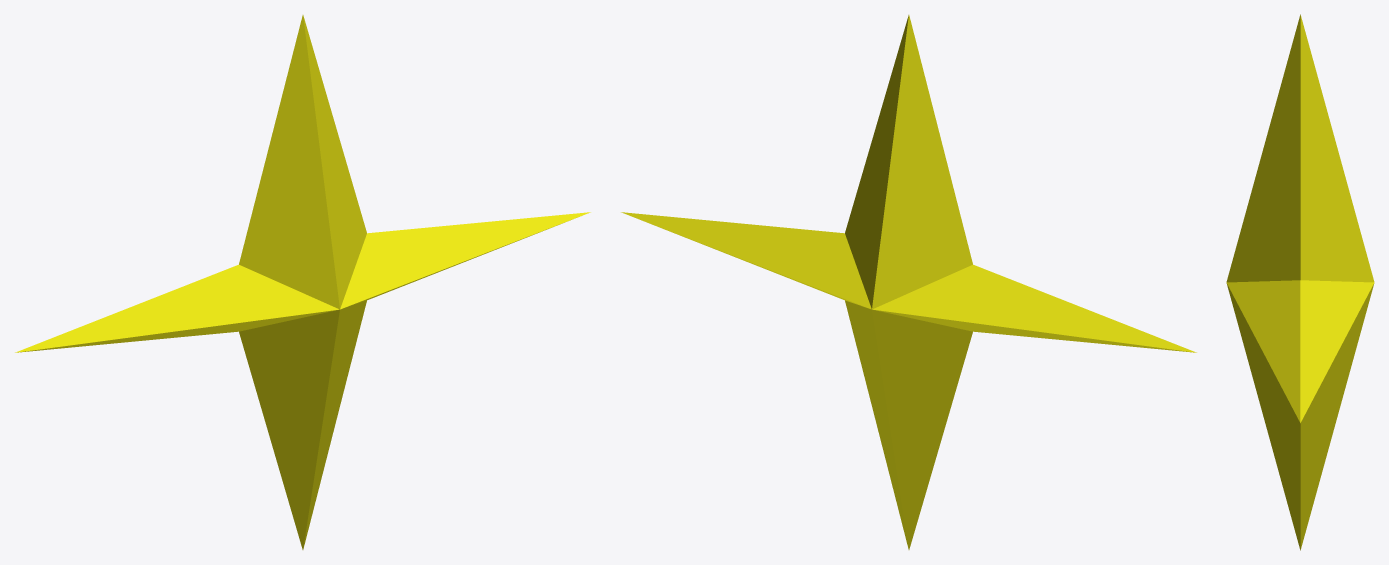
File: npc_world_high_priest_6.obj
3 views of the same model, side by side, from view 1: azimuth 30°, elevation 25°; view 2: azimuth 150°, elevation 25°; view 3: azimuth 270°, elevation 25° (orthographic).
Size of the model in its own units: 0.1406 by 0.125 by 0.0312.
